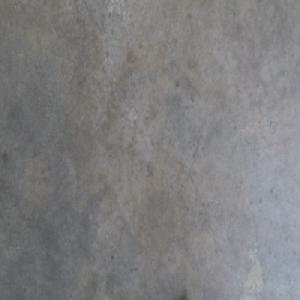Pliers: (184, 291, 195, 299)
